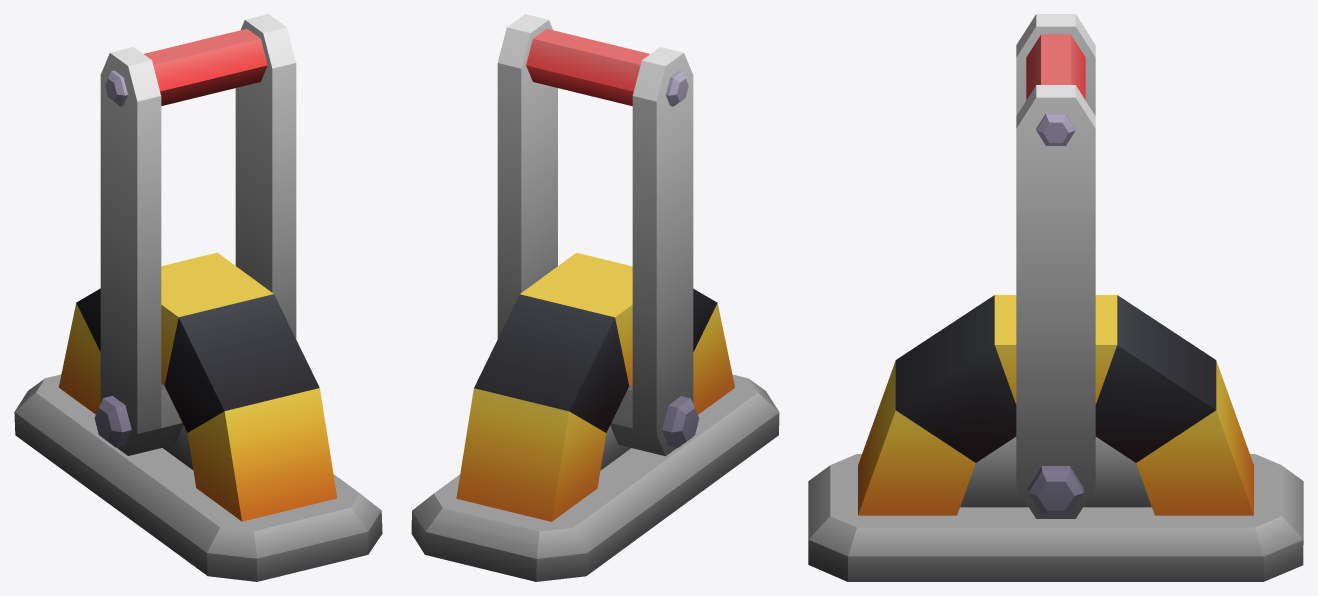
Rendered from lever.glb.
3 views of the same model, side by side, from view 1: azimuth 30°, elevation 25°; view 2: azimuth 150°, elevation 25°; view 3: azimuth 270°, elevation 25° (orthographic). The views are drawn at different scales.
Parts seen in each view (by area): view 1: LeverBase_Material #27_0, Lever, Cylinder001, Cylinder002; view 2: LeverBase_Material #27_0, Lever, Cylinder001, Cylinder002; view 3: LeverBase_Material #27_0, Lever, Cylinder001, Cylinder002.
Part boxes in pixels (x1,y1,x2,y2): LeverBase_Material #27_0: (14,252,382,581); Lever: (100,14,296,455); Cylinder001: (94,396,131,447); Cylinder002: (105,70,127,106); LeverBase_Material #27_0: (411,252,779,581); Lever: (497,14,693,456); Cylinder001: (662,396,699,447); Cylinder002: (665,70,688,106); LeverBase_Material #27_0: (808,295,1303,581); Lever: (1016,14,1095,518); Cylinder001: (1028,466,1083,514); Cylinder002: (1036,113,1075,145).
Size of the model in its own units: 0.6 by 1.34 by 1.25.
4 materials, 4 textured.
